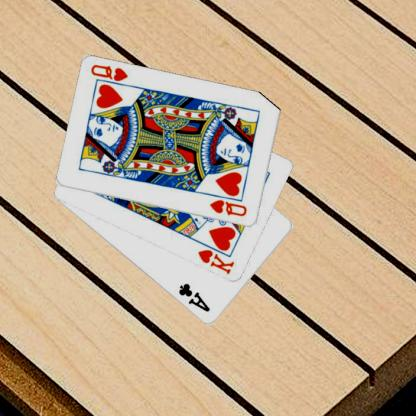AC: (178, 280, 213, 314)
KH: (197, 247, 238, 276)
QH: (90, 62, 134, 89), (209, 197, 250, 218)
